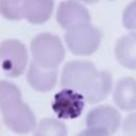Infected: (52, 89, 85, 120)
Uninfected: (31, 32, 66, 68), (64, 23, 100, 56), (0, 38, 29, 77), (62, 59, 96, 90), (3, 102, 36, 133), (87, 104, 121, 134), (85, 70, 113, 105), (26, 62, 56, 93), (58, 1, 90, 29), (23, 0, 54, 25), (116, 32, 136, 69), (114, 77, 136, 109), (0, 81, 23, 109), (37, 119, 69, 136)
